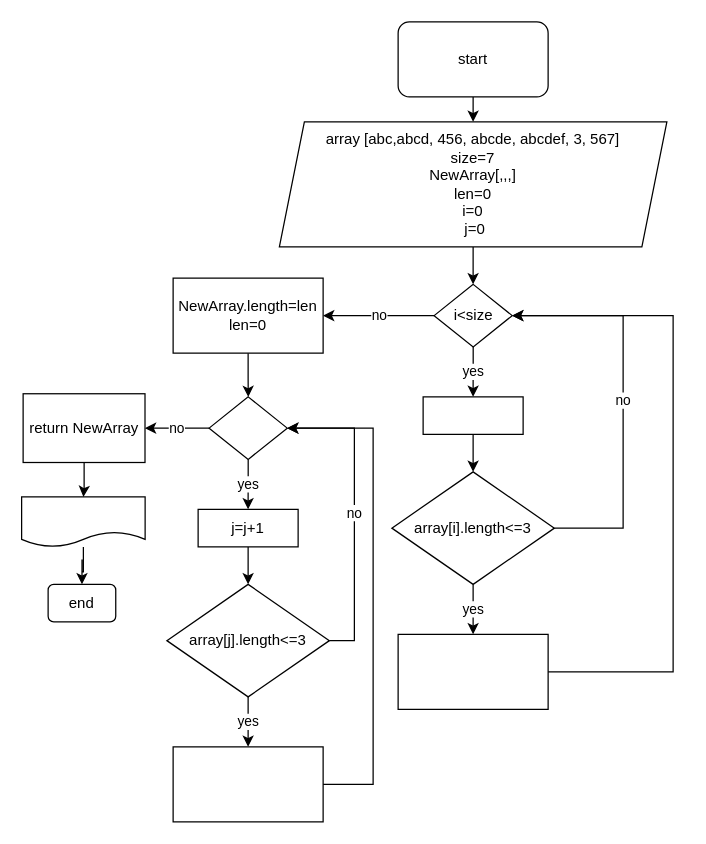
This 706x844 diagram has some shape labels left out. Each missing label, with the centre of its shape:
"i=i+1" goes at point (472, 415).
"j<size" goes at point (247, 427).
"len=len+1" goes at point (472, 671).
"NewArray[len]=array[j] len=len+1" goes at point (247, 784).
"print NewArray" goes at point (82, 521).
